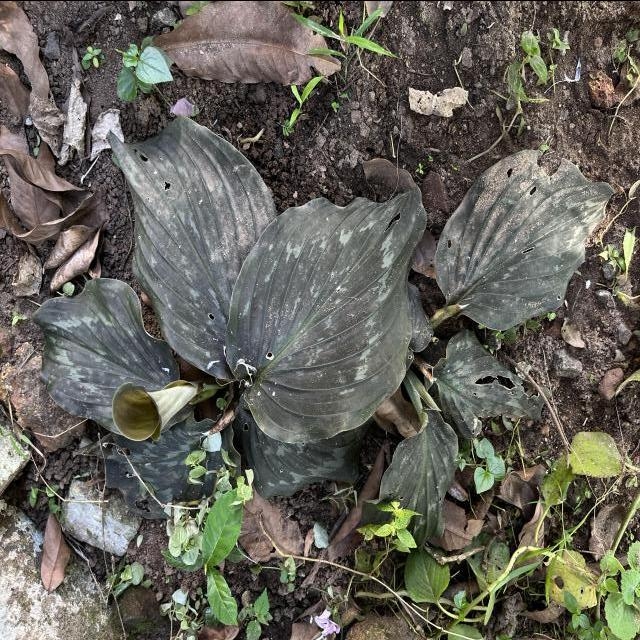Kaempferia galanga linn: (222, 182, 430, 446), (102, 112, 279, 384), (432, 147, 618, 330)
